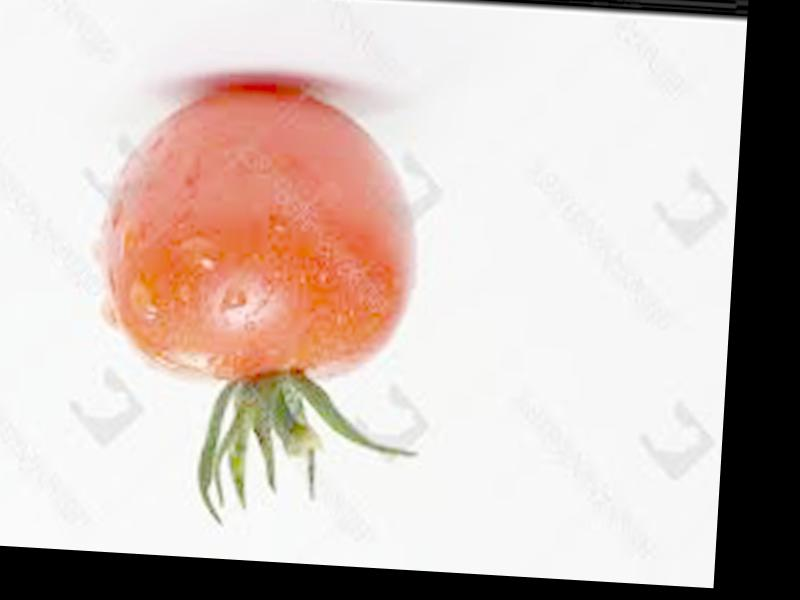Tomato: (101, 75, 426, 390)
